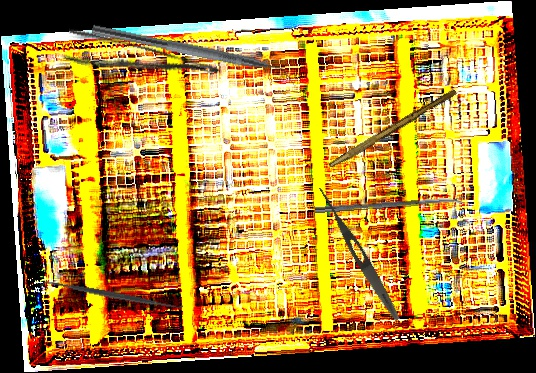Chopper: (88, 24, 301, 89)
Dressing Forceps: (313, 184, 404, 324), (61, 25, 221, 100)
Scalpel Handle: (328, 86, 458, 172)
Spatula Surgical: (39, 273, 185, 317)
Surgical Spoon: (314, 196, 465, 215)
